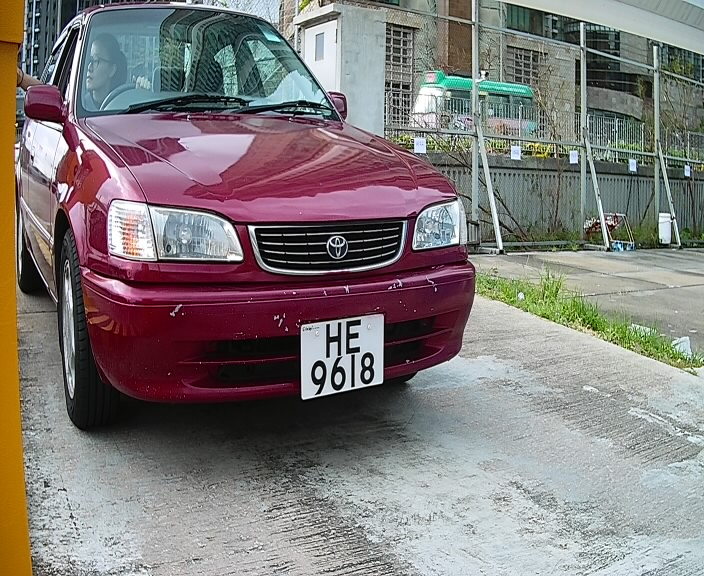Car: (25, 4, 499, 465)
License Plate: (299, 310, 393, 406)
